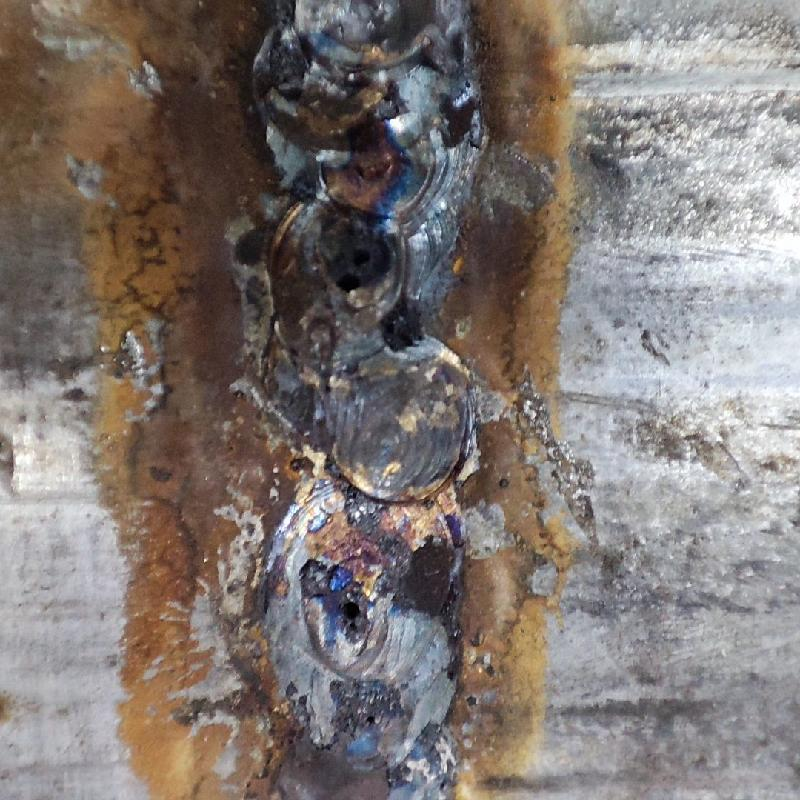Surface_pores: (319, 227, 393, 297), (328, 572, 381, 653)
